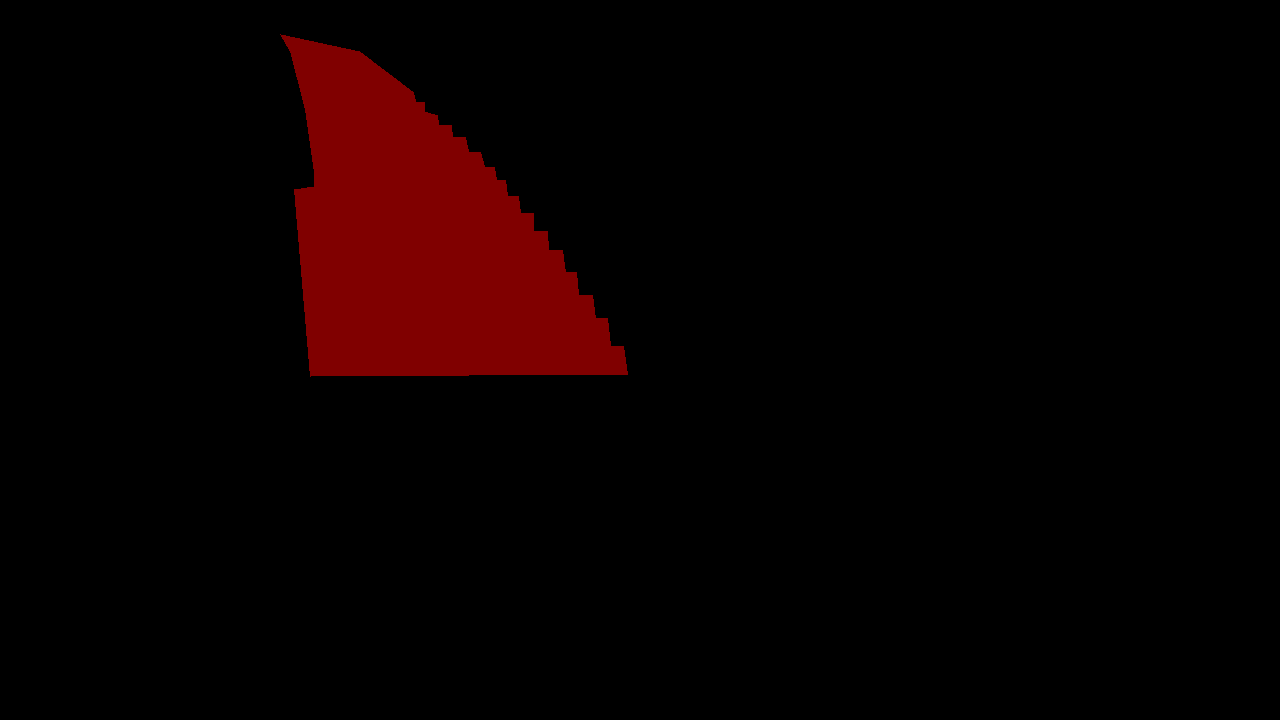stair: (280, 34, 627, 376)
